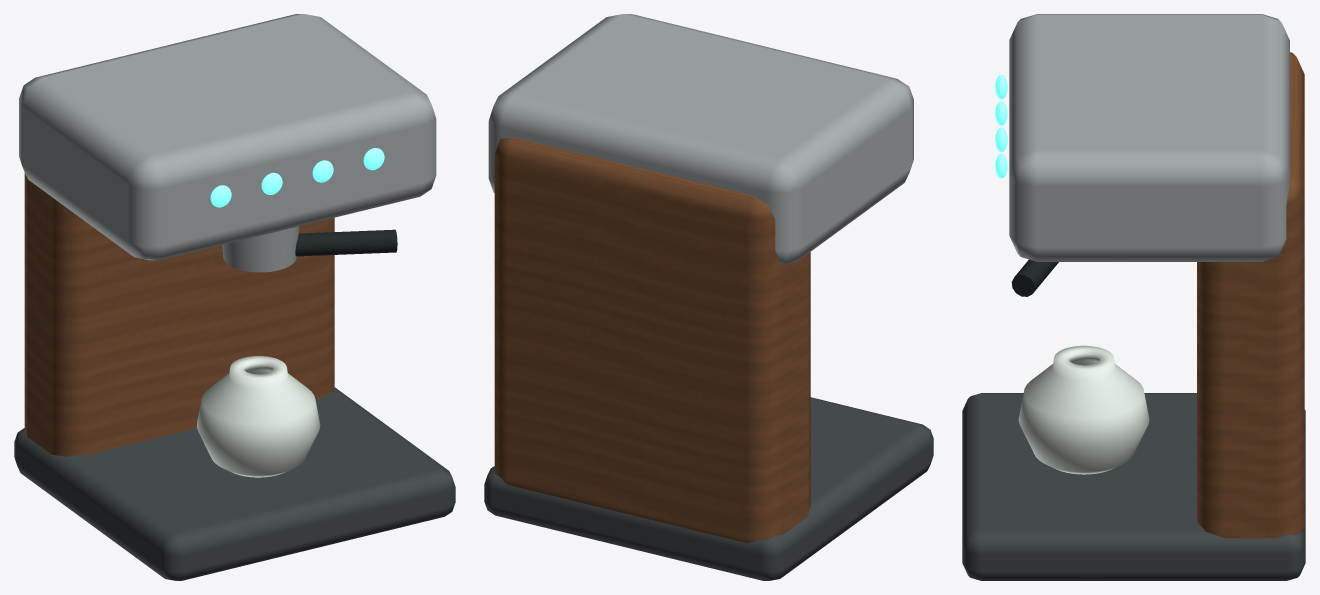
File: espresso-1465b7bc44df.glb
3 renders of one model, left to right at view 1: azimuth 30°, elevation 25°; view 2: azimuth 150°, elevation 25°; view 3: azimuth 270°, elevation 25°, orthographic. The views are drawn at different scales.
Parts seen in each view (by area): view 1: surface_steel, surface_walnut, surface_graphite, surface_porcelain, surface_black, surface_cyan; view 2: surface_walnut, surface_steel, surface_graphite; view 3: surface_steel, surface_graphite, surface_walnut, surface_porcelain, surface_cyan, surface_black.
Part boxes in pixels (<box>): surface_steel: <box>19,14,436,272</box>; surface_walnut: <box>24,173,334,456</box>; surface_graphite: <box>14,387,455,580</box>; surface_porcelain: <box>197,356,320,477</box>; surface_black: <box>295,229,397,256</box>; surface_cyan: <box>210,148,384,207</box>; surface_walnut: <box>494,137,810,543</box>; surface_steel: <box>488,14,913,264</box>; surface_graphite: <box>484,397,933,580</box>; surface_steel: <box>1009,14,1289,261</box>; surface_graphite: <box>962,393,1305,580</box>; surface_walnut: <box>1197,52,1304,538</box>; surface_porcelain: <box>1018,345,1149,474</box>; surface_cyan: <box>995,74,1007,178</box>; surface_black: <box>1011,259,1058,296</box>.
Size of the model in its own units: 0.24 by 0.3045 by 0.22.
Materials: 6 (1 with a texture image).
